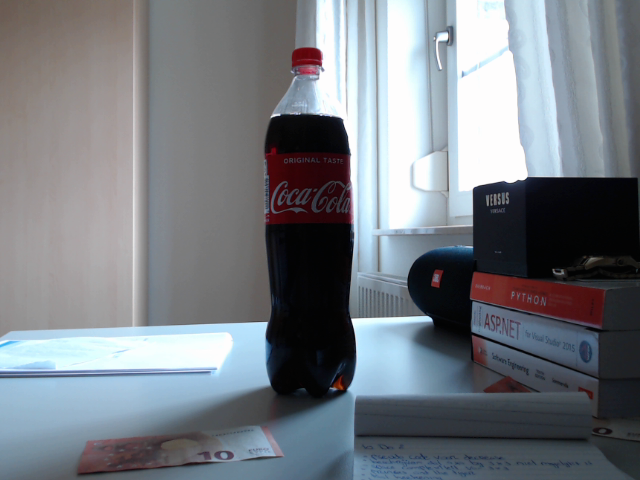bottle: (263, 47, 356, 399)
